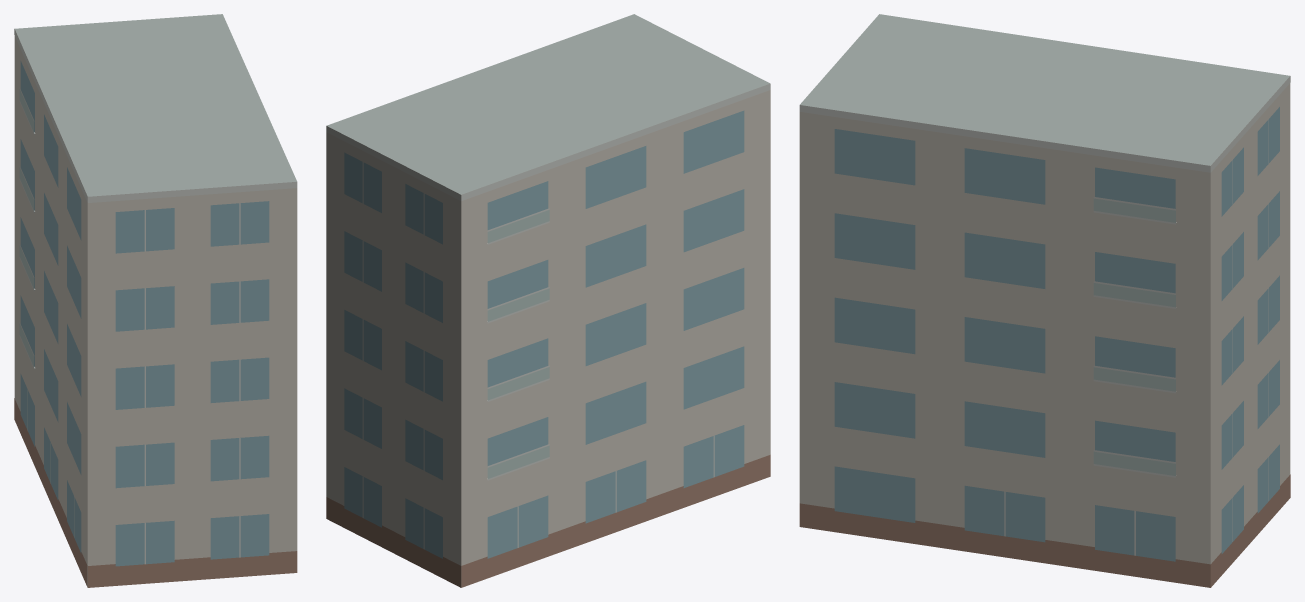
Rendered from survey-upis-32954036.glb.
3 renders of one model, left to right at view 1: azimuth 30°, elevation 25°; view 2: azimuth 150°, elevation 25°; view 3: azimuth 270°, elevation 25°, orthographic. The views are drawn at different scales.
Visible parts, largest first — view 1: survey-upis-32954036.tmp; view 2: survey-upis-32954036.tmp; view 3: survey-upis-32954036.tmp.
Boxes of the visible parts, x1,y1,x2,y2 form: survey-upis-32954036.tmp: [14, 14, 297, 587]; survey-upis-32954036.tmp: [326, 14, 770, 587]; survey-upis-32954036.tmp: [799, 14, 1290, 587].
Bounding box in the file's own units: 11.59 × 15 × 15.82.
